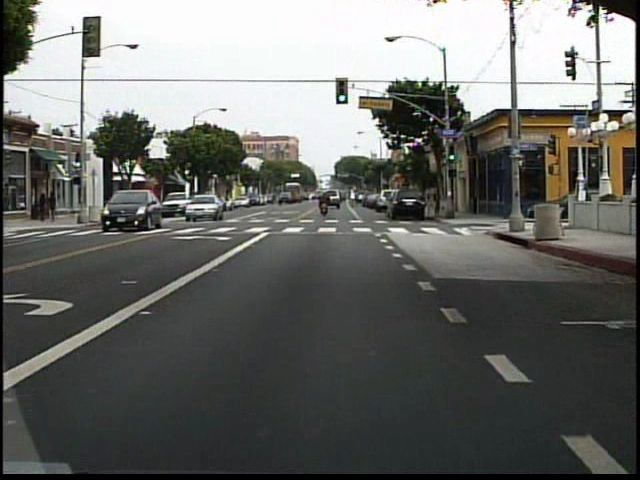person: (39, 192, 51, 224), (318, 189, 330, 218), (50, 190, 61, 221)
